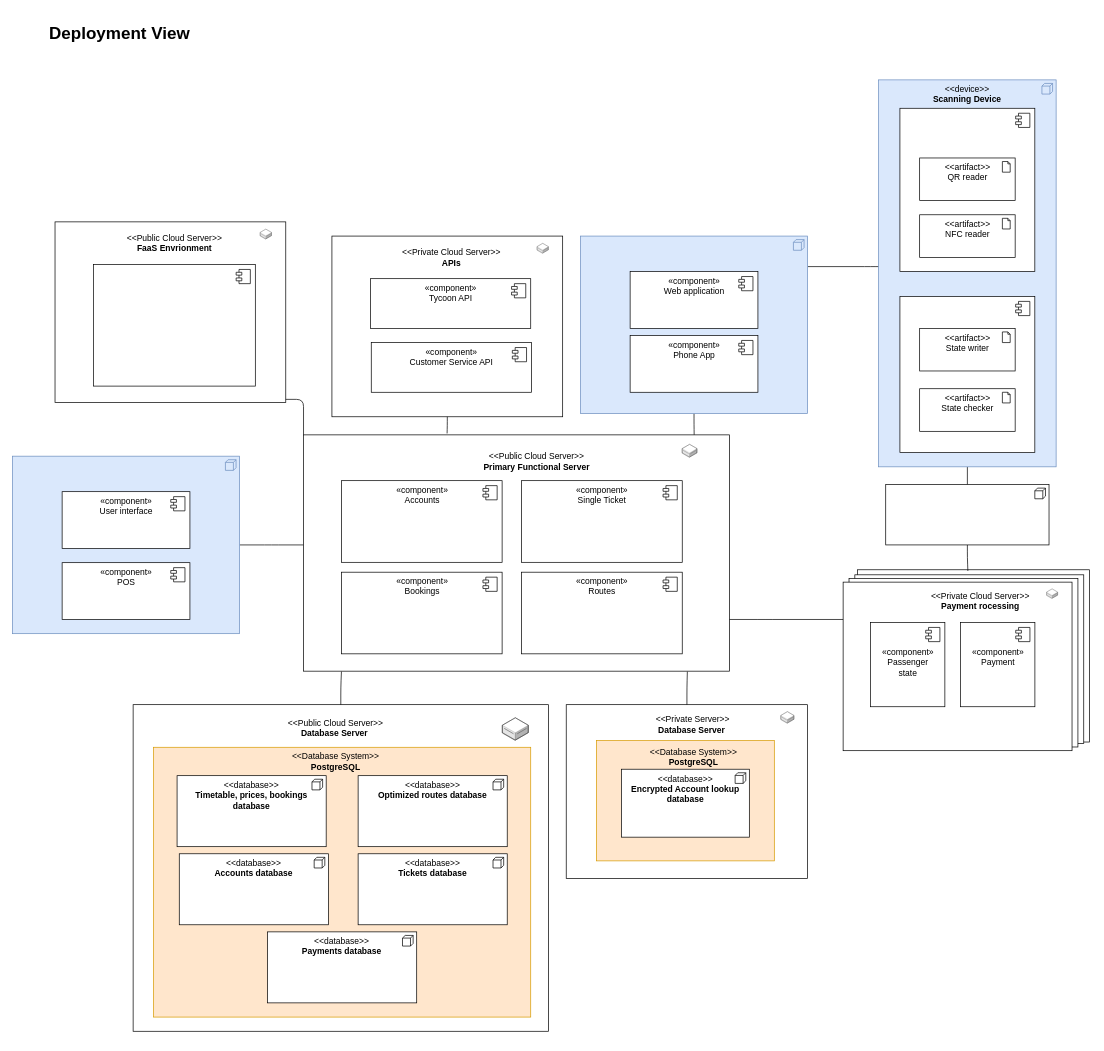
The diagram is 1104 pixels wide and 1051 high, and some of its shapes have lost their labels. The box of each missing label's shape, as (x1, y1, x2, y2) in pixels:
<<device>> Passenger access device: (580, 235, 808, 414)
<<device>> Ticket Machine: (12, 455, 240, 634)
<<node>> Load Balancer: (885, 484, 1049, 545)
«c omponent » Generic scanning: (899, 108, 1035, 272)
«c omponent » Route optimizer: (93, 264, 255, 386)
«c omponent » State tracker: (899, 296, 1035, 453)
